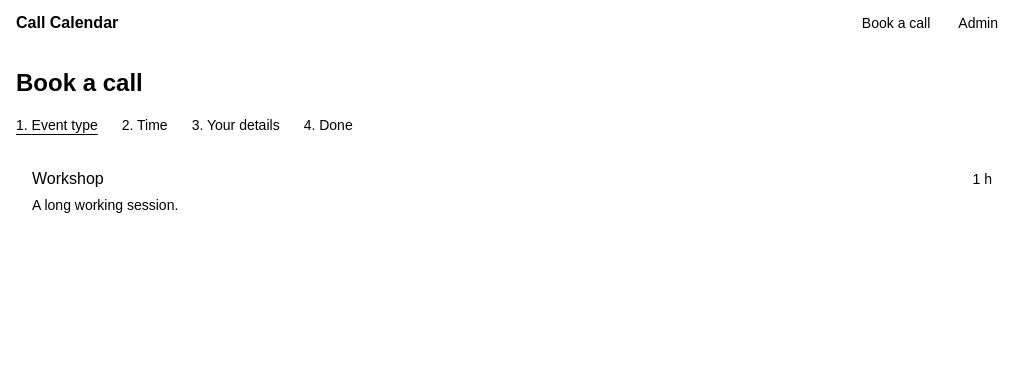
it: booking page, steps 3 and 4: details and done › goes back to step 2 on "change"
What coordinates should you click on to do the following:
click the button "Workshop 1 h A long working session."
I would click on:
 (68, 178)
Its box is [16, 151, 1008, 231].
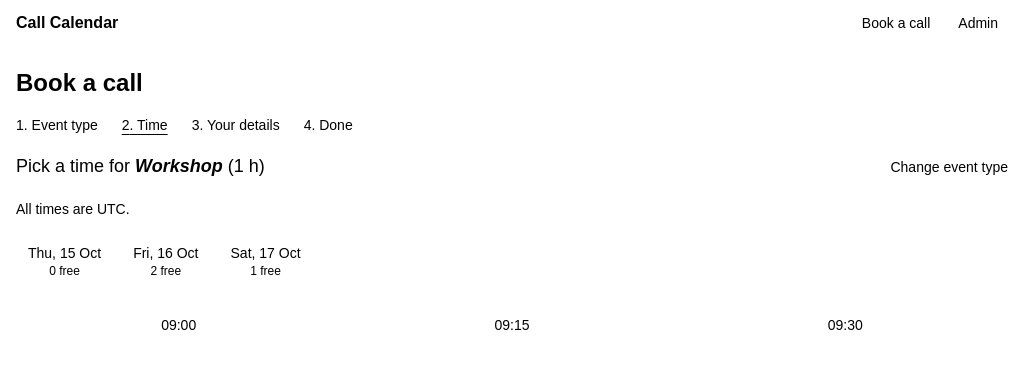
What coordinates should you click on to do the following:
click the button "09:30"
I would click on:
 (845, 325)
Its box is [683, 307, 1008, 343].
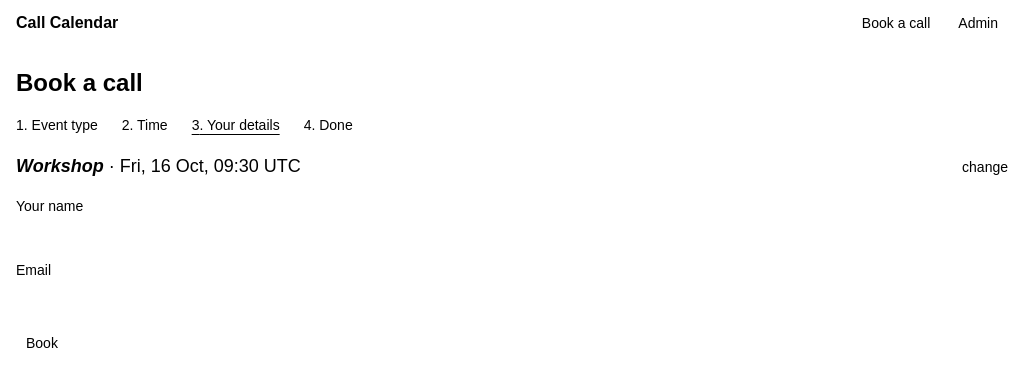
What coordinates should you click on to do the following:
click the button "change"
I would click on:
 (985, 167)
Its box is [962, 151, 1008, 183].
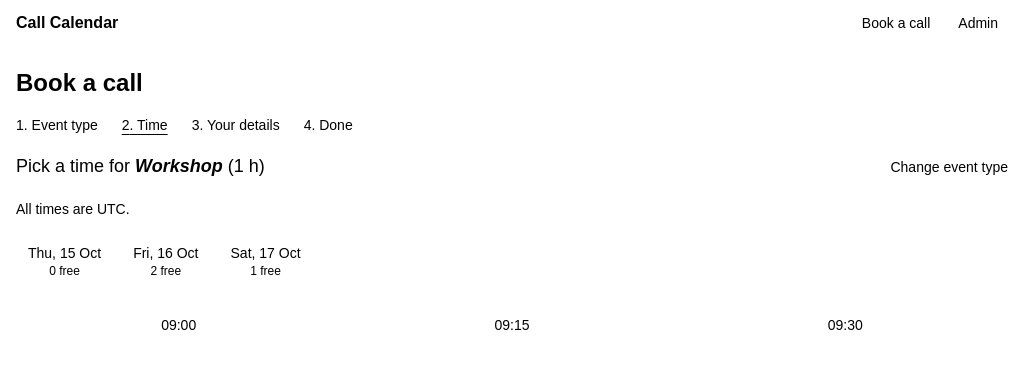
Check: the list named "Start times" is shown, box [16, 307, 1008, 343]
